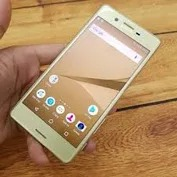sony: (9, 3, 163, 164)
